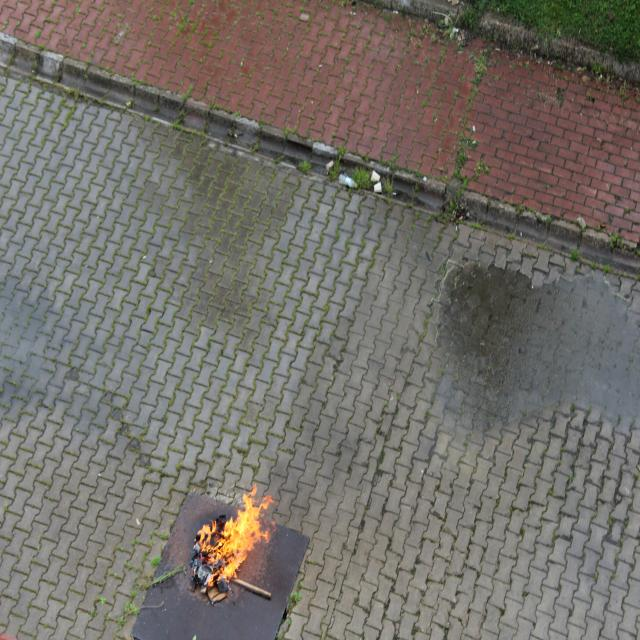fire: (178, 493, 304, 605)
